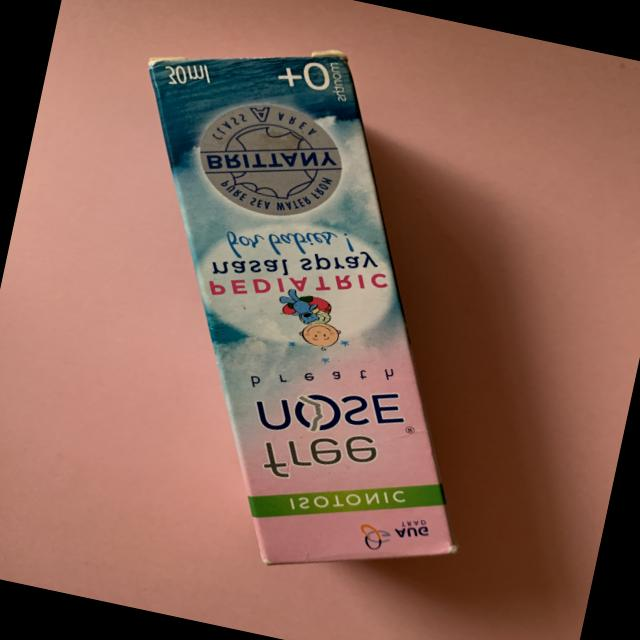medicine_packaging: (32, 4, 577, 628)
